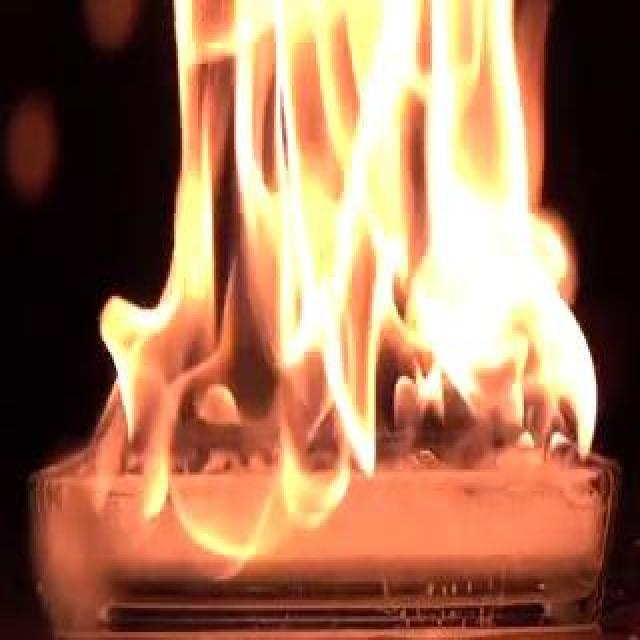Fire: (304, 276, 540, 546)
